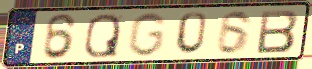0: (173, 11, 209, 56)
6: (215, 10, 255, 55), (41, 12, 77, 61)
B: (255, 8, 301, 55)
G: (125, 11, 169, 58)
Q: (82, 12, 122, 59)
